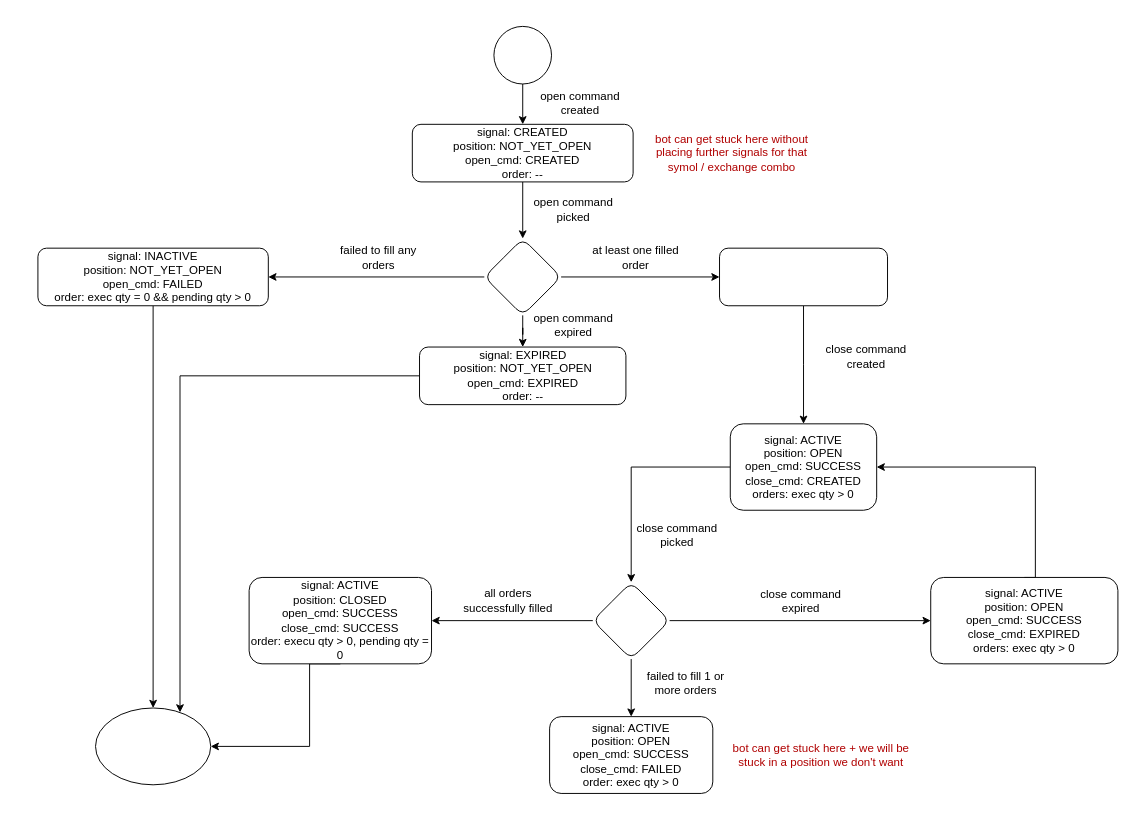
This 1146x820 diagram has some shape labels left out. The shapes that lost their labels are listed below. From the top down, each one's box as (x1, y1, x2, y2) in pixels, then its label:
(493, 25, 552, 84): START
(719, 247, 888, 306): signal: ACTIVE position: OPEN open_cmd: SUCCESS orders: exec qty > 0
(95, 707, 211, 785): FINISH
